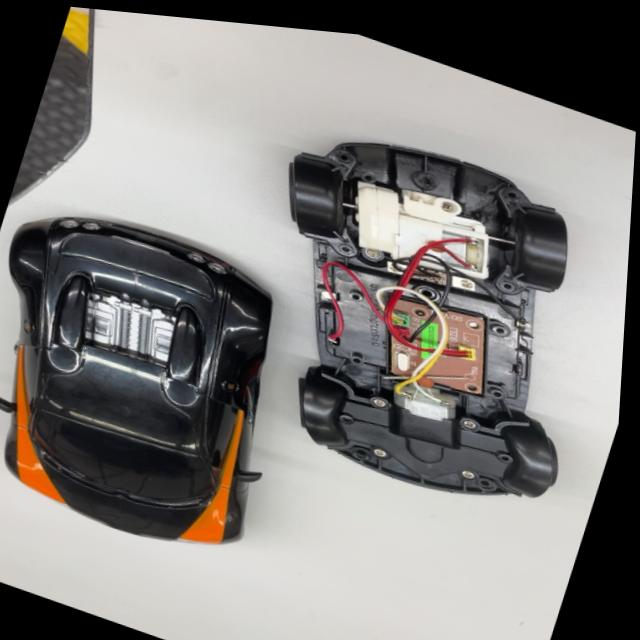Chassis: (210, 103, 635, 539)
motor_cover: (266, 349, 561, 529)
vehicle_body: (0, 181, 334, 577)
